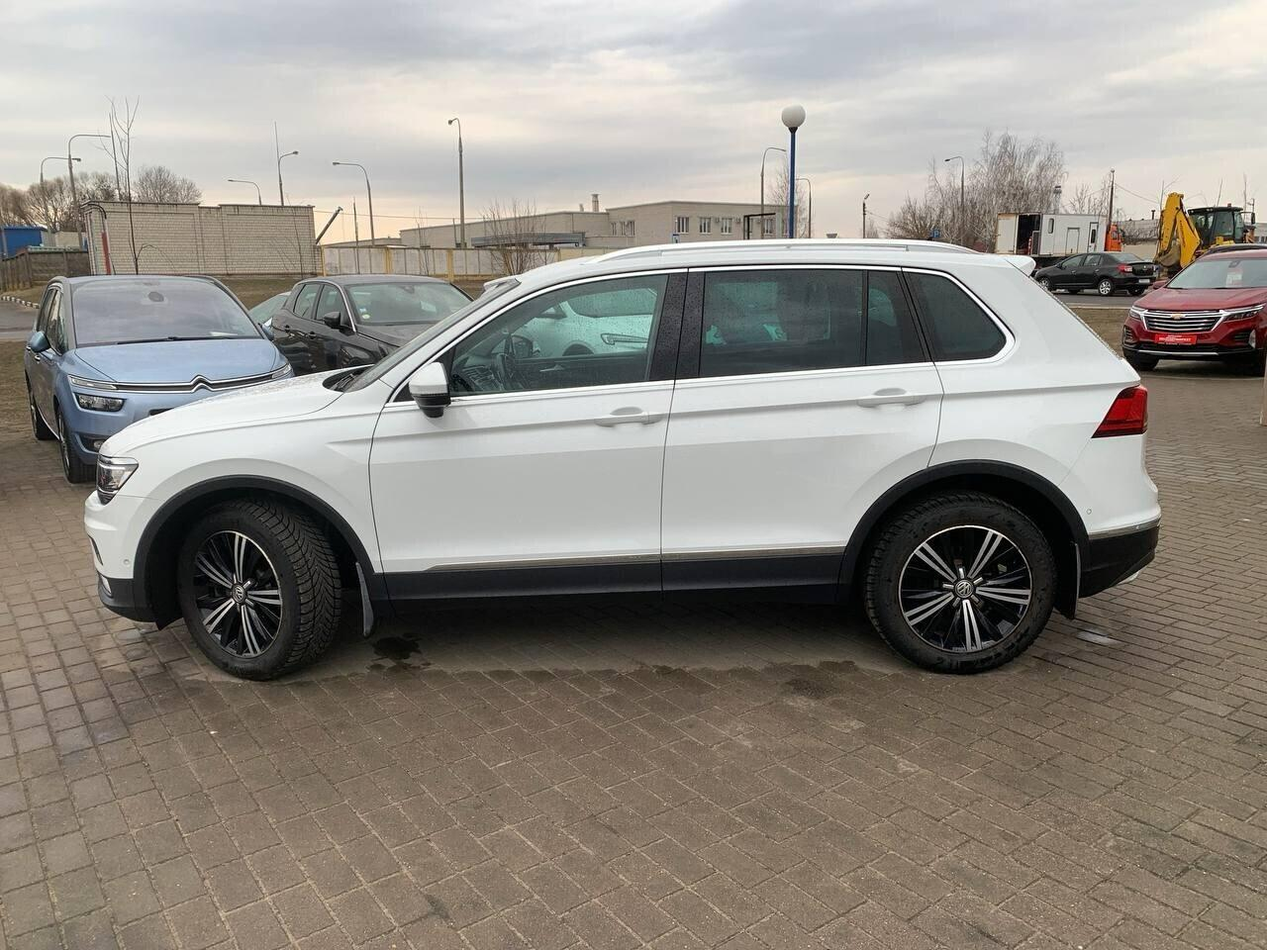Tiguan_2016-2021: (78, 231, 1158, 694)
